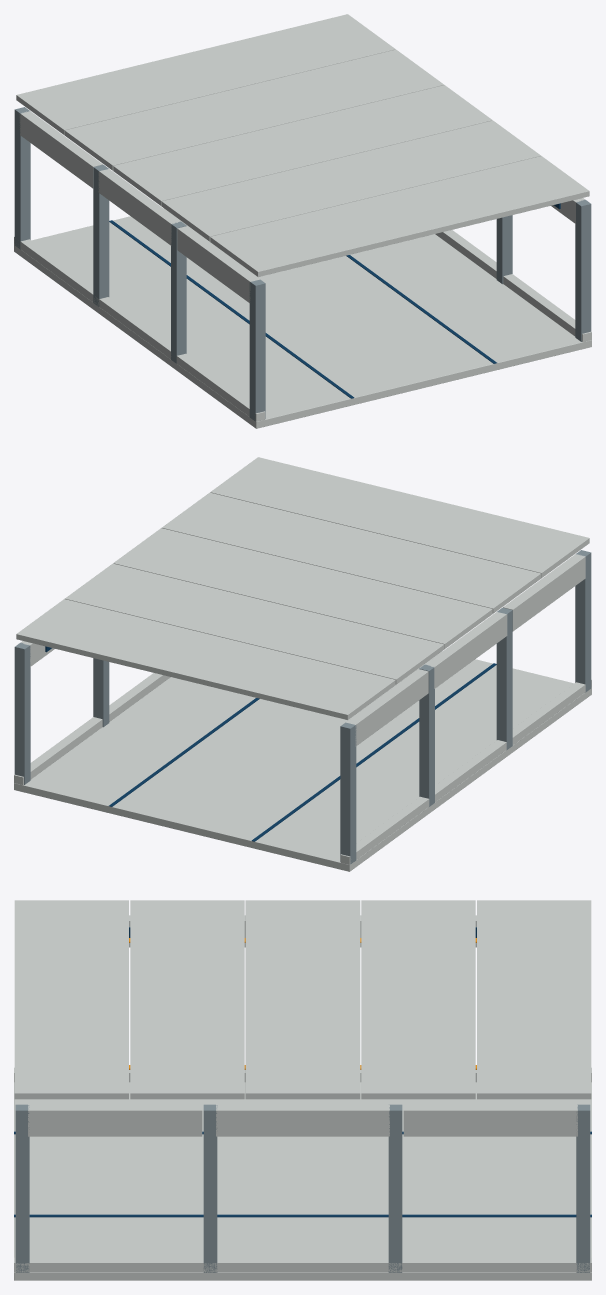
Rendered from edited.glb.
The picture shows the model from 3 angles, top to bottom: view 1: azimuth 30°, elevation 25°; view 2: azimuth 150°, elevation 25°; view 3: azimuth 270°, elevation 25°; orthographic projection. The views are drawn at different scales.
Parts seen in each view (by area): view 1: FLOOR_Module, CEILING_Panel.001, CEILING_Panel.002, CEILING_Panel.004, CEILING_Panel.003, CEILING_Panel, SKIRT, SHOP_Header.002, SHOP_Header, SHOP_Header.001, SHOPFRONT_Pier, SHOPFRONT_Pier.004 (+7 smaller); view 2: FLOOR_Module, CEILING_Panel, CEILING_Panel.004, CEILING_Panel.002, CEILING_Panel.001, CEILING_Panel.003, SKIRT, SHOP_Header, SHOP_Header.002, SHOP_Header.001, SHOPFRONT_Pier.003, SHOPFRONT_Pier.007 (+7 smaller); view 3: FLOOR_Module, CEILING_Panel.003, CEILING_Panel.002, CEILING_Panel.004, CEILING_Panel.001, CEILING_Panel, SKIRT.001, SHOP_Header.003, SHOP_Header.005, SHOP_Header.004, SHOPFRONT_Pier.007, SHOPFRONT_Pier.006 (+3 smaller).
Boxes of the visible parts, x1,y1,x2,y2 form: FLOOR_Module: (14, 208, 591, 428); CEILING_Panel.001: (210, 156, 589, 276); CEILING_Panel.002: (161, 120, 540, 241); CEILING_Panel.004: (64, 49, 443, 170); CEILING_Panel.003: (113, 85, 492, 206); CEILING_Panel: (16, 14, 395, 135); SKIRT: (14, 236, 265, 421); SHOP_Header.002: (19, 111, 102, 188); SHOP_Header: (177, 226, 259, 302); SHOP_Header.001: (98, 169, 180, 245); SHOPFRONT_Pier: (249, 279, 265, 421); SHOPFRONT_Pier.004: (575, 199, 591, 341); FLOOR_Module: (14, 651, 591, 871); CEILING_Panel: (16, 599, 395, 719); CEILING_Panel.004: (65, 563, 444, 684); CEILING_Panel.002: (162, 492, 541, 613); CEILING_Panel.001: (210, 457, 589, 578); CEILING_Panel.003: (113, 528, 492, 649); SKIRT: (340, 679, 591, 864); SHOP_Header: (503, 554, 585, 631); SHOP_Header.002: (346, 669, 428, 746); SHOP_Header.001: (425, 612, 507, 688); SHOPFRONT_Pier.003: (340, 722, 356, 864); SHOPFRONT_Pier.007: (14, 642, 30, 784); FLOOR_Module: (14, 1082, 591, 1280); CEILING_Panel.003: (245, 900, 360, 1099); CEILING_Panel.002: (130, 900, 244, 1099); CEILING_Panel.004: (361, 900, 475, 1099); CEILING_Panel.001: (14, 900, 128, 1099); CEILING_Panel: (477, 900, 591, 1099); SKIRT.001: (14, 1257, 591, 1272); SHOP_Header.003: (28, 1104, 202, 1136); SHOP_Header.005: (403, 1104, 577, 1136); SHOP_Header.004: (216, 1104, 389, 1136); SHOPFRONT_Pier.007: (576, 1104, 590, 1272); SHOPFRONT_Pier.006: (388, 1104, 402, 1272).
Size of the model in its own units: 8 by 3.56 by 10.
